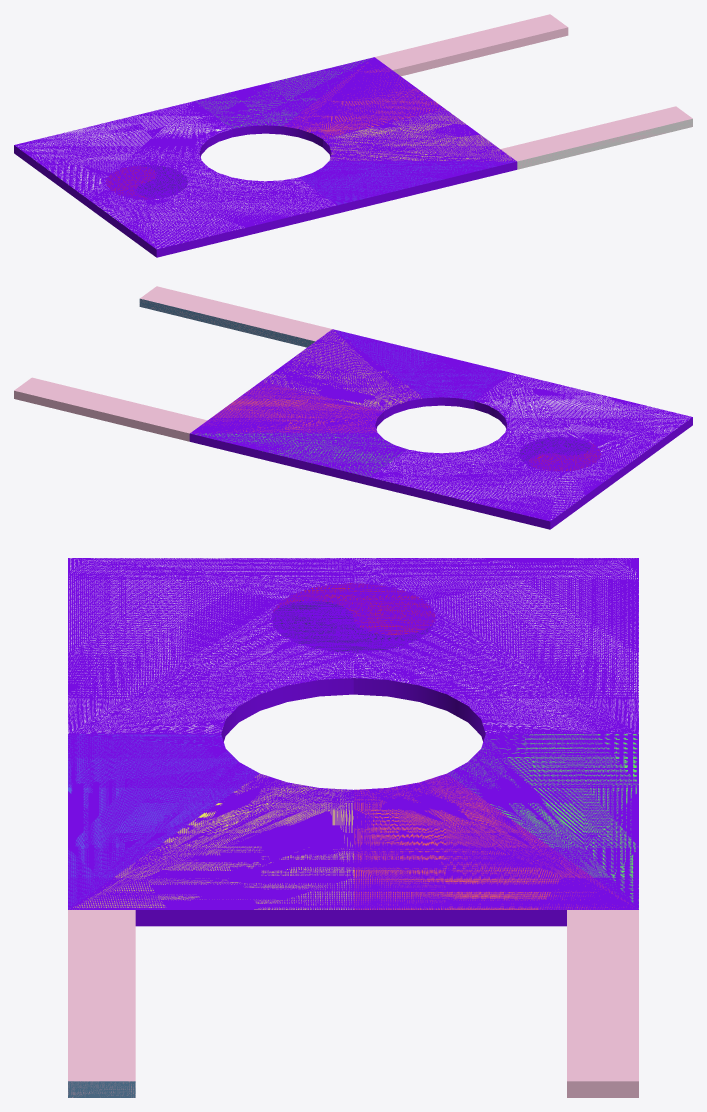
Rendered from kite3.dae.
3 renders of one model, top to bottom at view 1: azimuth 30°, elevation 25°; view 2: azimuth 150°, elevation 25°; view 3: azimuth 270°, elevation 25°, orthographic. The views are drawn at different scales.
Visible parts, largest first — view 1: Body (×8), group_2, group_0 (×2), group_3; view 2: Body (×8), group_2, group_0 (×2), group_3; view 3: Body (×8), group_0 (×2), group_2, group_3, SketchUp.
Boxes of the visible parts, x1,y1,x2,y2 form: Body (×8): (14,57,517,257); group_2: (375,14,568,76); group_0 (×2): (500,106,692,169); group_3: (105,166,160,199); Body (×8): (189,329,692,529); group_2: (14,377,207,441); group_0 (×2): (139,286,331,347); group_3: (529,441,601,471); Body (×8): (68,558,638,926); group_0 (×2): (68,910,135,1097); group_2: (567,910,638,1081); group_3: (273,583,435,635); SketchUp: (567,1081,638,1097).
Size of the model in its own units: 22.78 by 10.5 by 0.3356.
